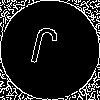J: (25, 25, 60, 76)
